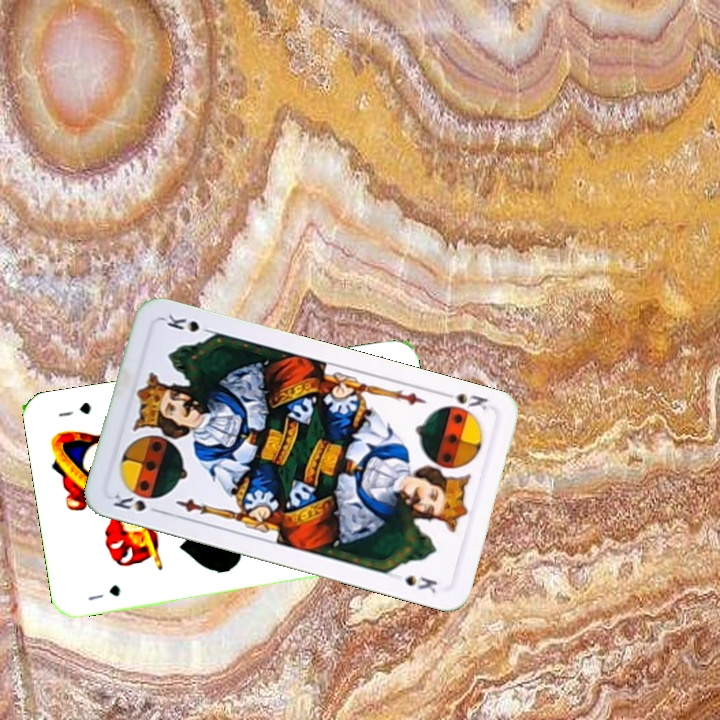GU: (84, 581, 123, 603)
SK: (109, 488, 165, 517), (437, 388, 491, 413)
